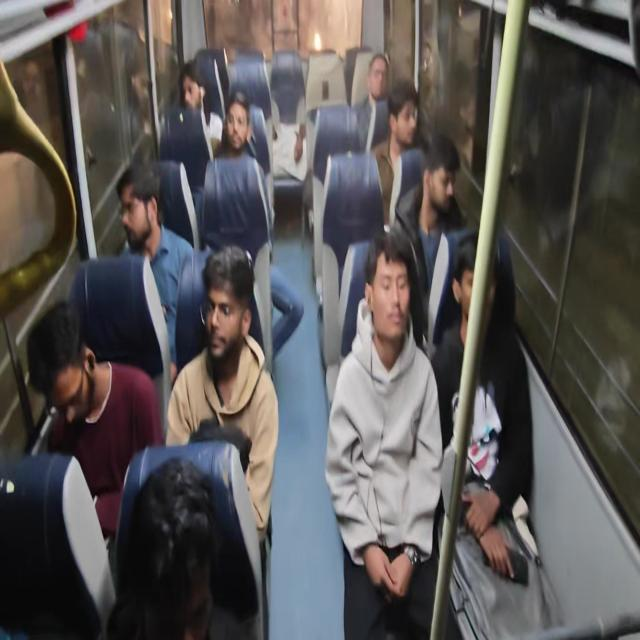person: (27, 302, 97, 440), (198, 239, 264, 384), (366, 233, 420, 351), (117, 165, 173, 258), (449, 224, 494, 323), (419, 133, 463, 218), (222, 91, 255, 158), (179, 51, 210, 121), (388, 84, 420, 151), (362, 48, 394, 100)
